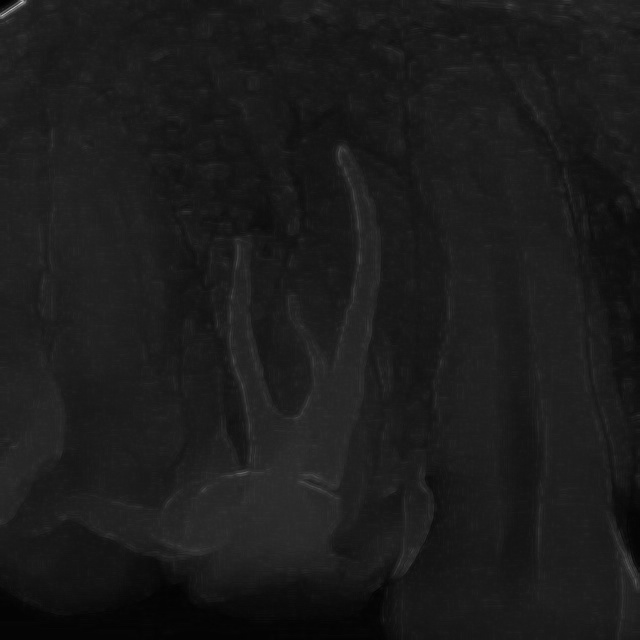Class 0- No endodontic treatment: (127, 106, 482, 624)
cavity: (373, 34, 640, 640)
